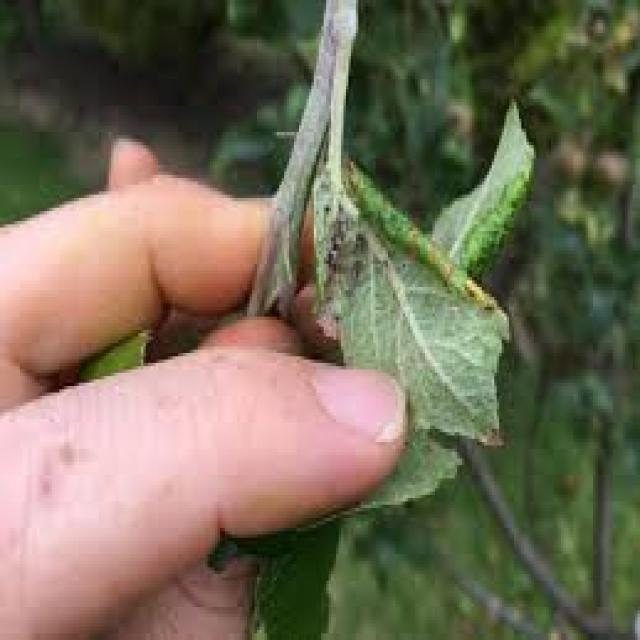aphid: (331, 208, 349, 231), (326, 225, 341, 248), (324, 241, 336, 267)
